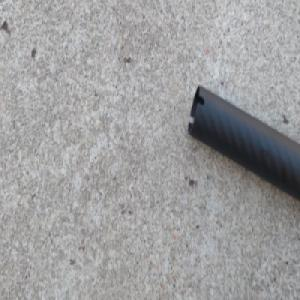LuggagePart: (186, 81, 300, 205)
